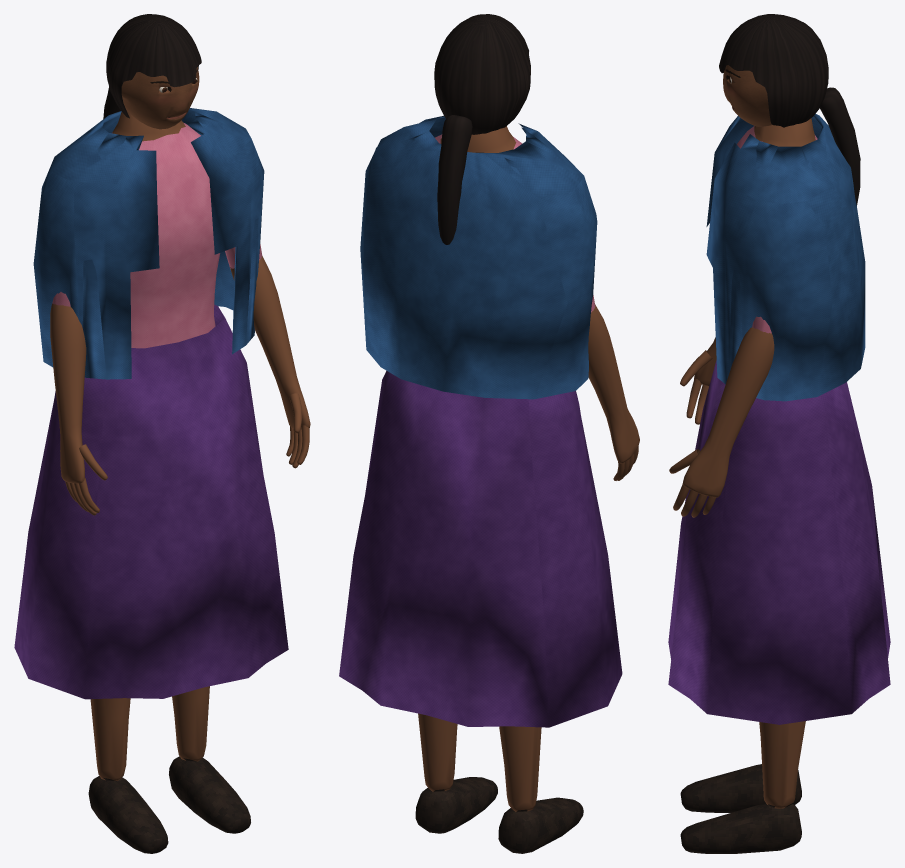
Rendered from persona_mujer_b_medio.obj.
3 renders of one model, left to right at view 1: azimuth 30°, elevation 25°; view 2: azimuth 150°, elevation 25°; view 3: azimuth 270°, elevation 25°, orthographic. The views are drawn at different scales.
Visible parts, largest first — view 1: Falda, Rebozo, Torso, PiernaDer, PiernaIzq, AntebrazoDer, Pelo, AntebrazoIzq, Cabeza; view 2: Falda, Rebozo, Pelo, PiernaDer, PiernaIzq, AntebrazoDer, Torso; view 3: Falda, Rebozo, Pelo, PiernaIzq, AntebrazoIzq, PiernaDer, Cabeza, AntebrazoDer, Torso.
Part boxes in pixels (x1,y1,x2,y2): Falda: (14, 304, 288, 699); Rebozo: (33, 108, 264, 379); Torso: (112, 109, 220, 348); PiernaDer: (88, 698, 168, 853); PiernaIzq: (169, 686, 250, 833); AntebrazoDer: (50, 303, 107, 515); Pelo: (103, 14, 201, 118); AntebrazoIzq: (230, 256, 310, 468); Cabeza: (121, 67, 199, 129); Falda: (339, 370, 622, 727); Rebozo: (360, 115, 597, 399); Pelo: (434, 14, 530, 244); PiernaDer: (498, 726, 583, 853); PiernaIzq: (415, 713, 497, 833); AntebrazoDer: (588, 304, 639, 480); Torso: (435, 126, 522, 152); Falda: (668, 360, 890, 724); Rebozo: (706, 113, 865, 401); Pelo: (719, 14, 860, 205); PiernaIzq: (680, 721, 805, 853); AntebrazoIzq: (669, 327, 774, 517); PiernaDer: (680, 764, 801, 812); Cabeza: (723, 65, 772, 126); AntebrazoDer: (680, 337, 716, 424); Torso: (737, 118, 817, 148).
Bounding box in the file's own units: 0.5257 × 1.62 × 0.4019.
Materials: 12 (12 with a texture image).
